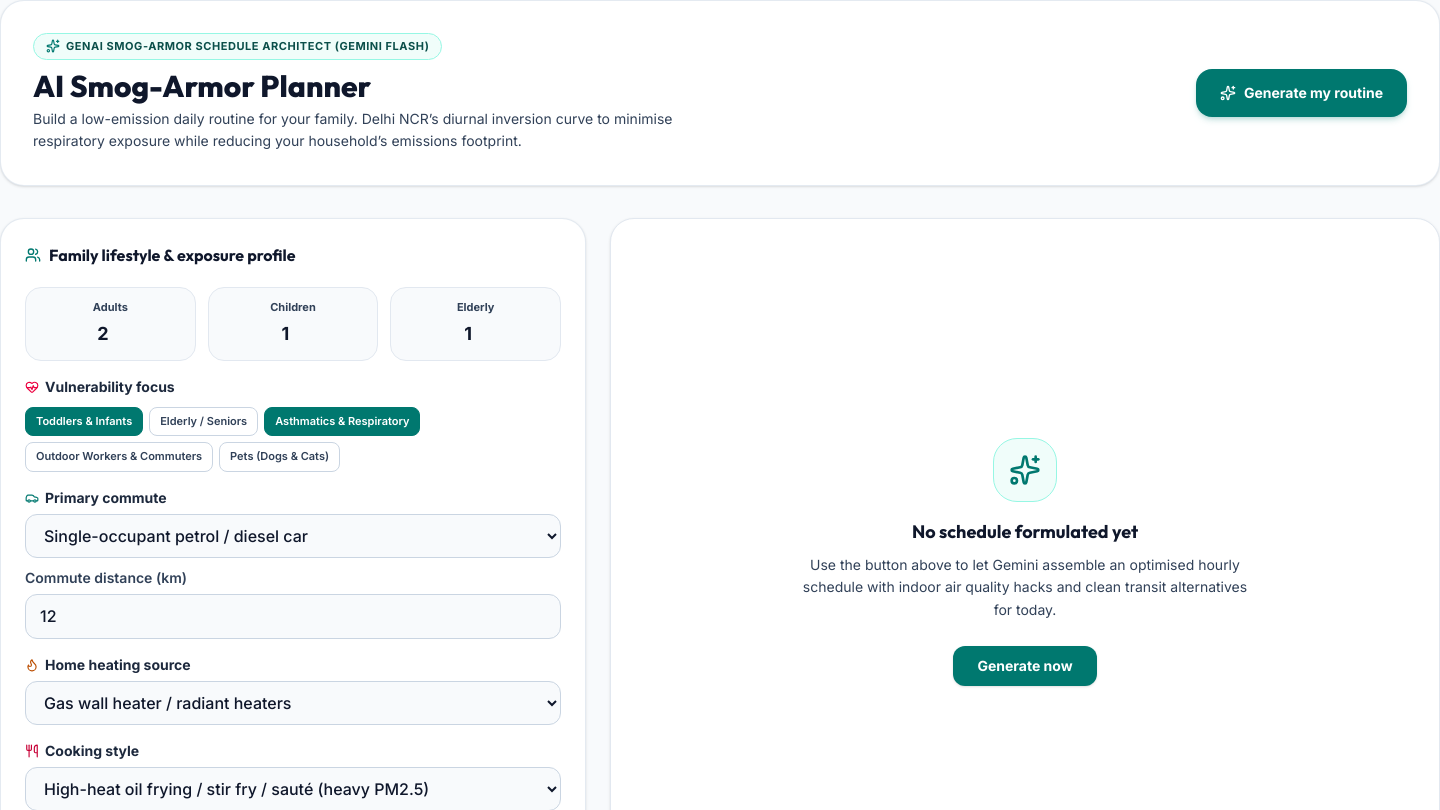
Scenario: GenAISmogPlanner › toggles a time block between done and not done
The width and height of the screenshot is (1440, 810).
Step 1. Click the button "Generate my routine" → click(1301, 93), box [1196,69,1407,117]
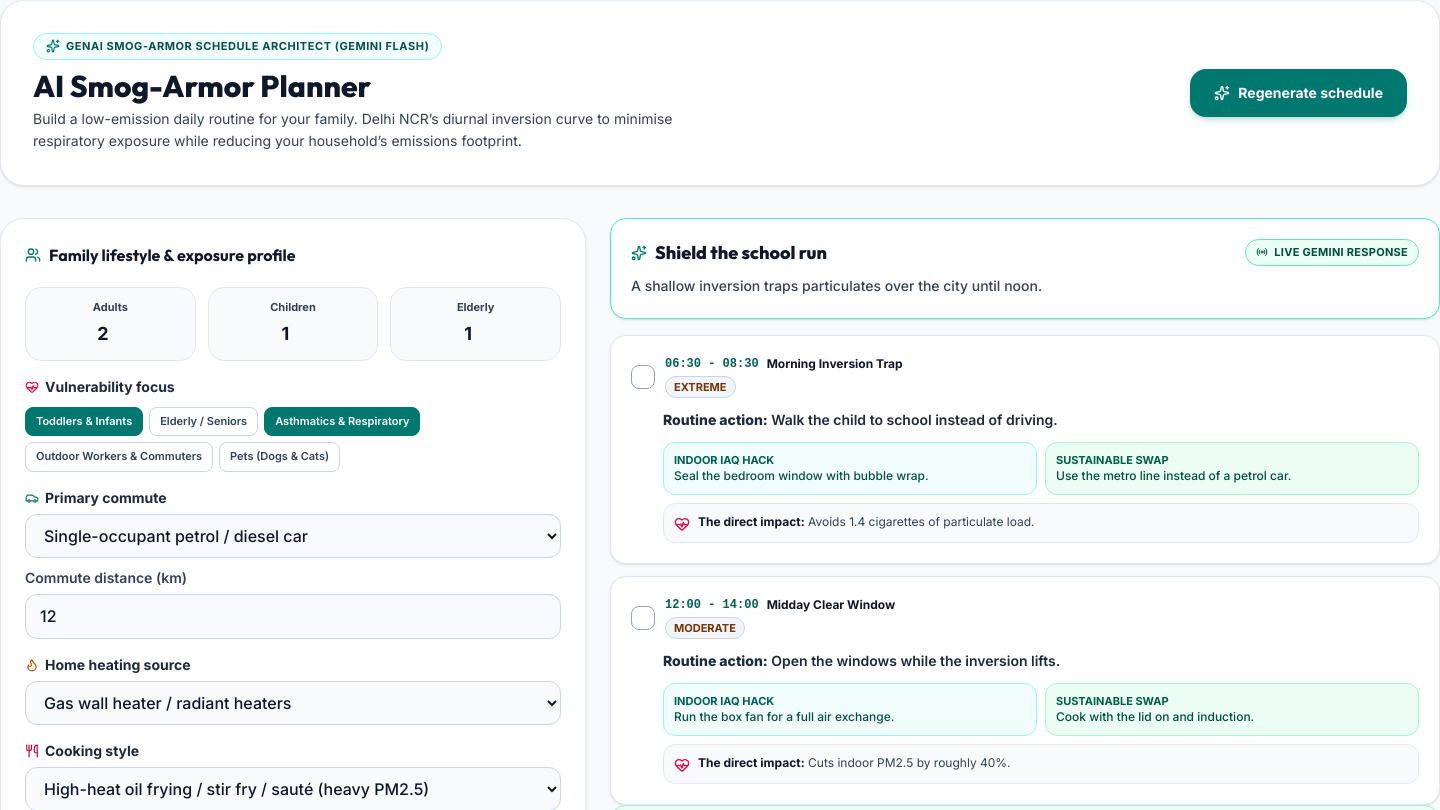
Now the heading "Shield the school run" is shown, box [631,239,827,267]
Step 2. Click the button named "mark block complete" → click(643, 377), box [631,365,655,389]
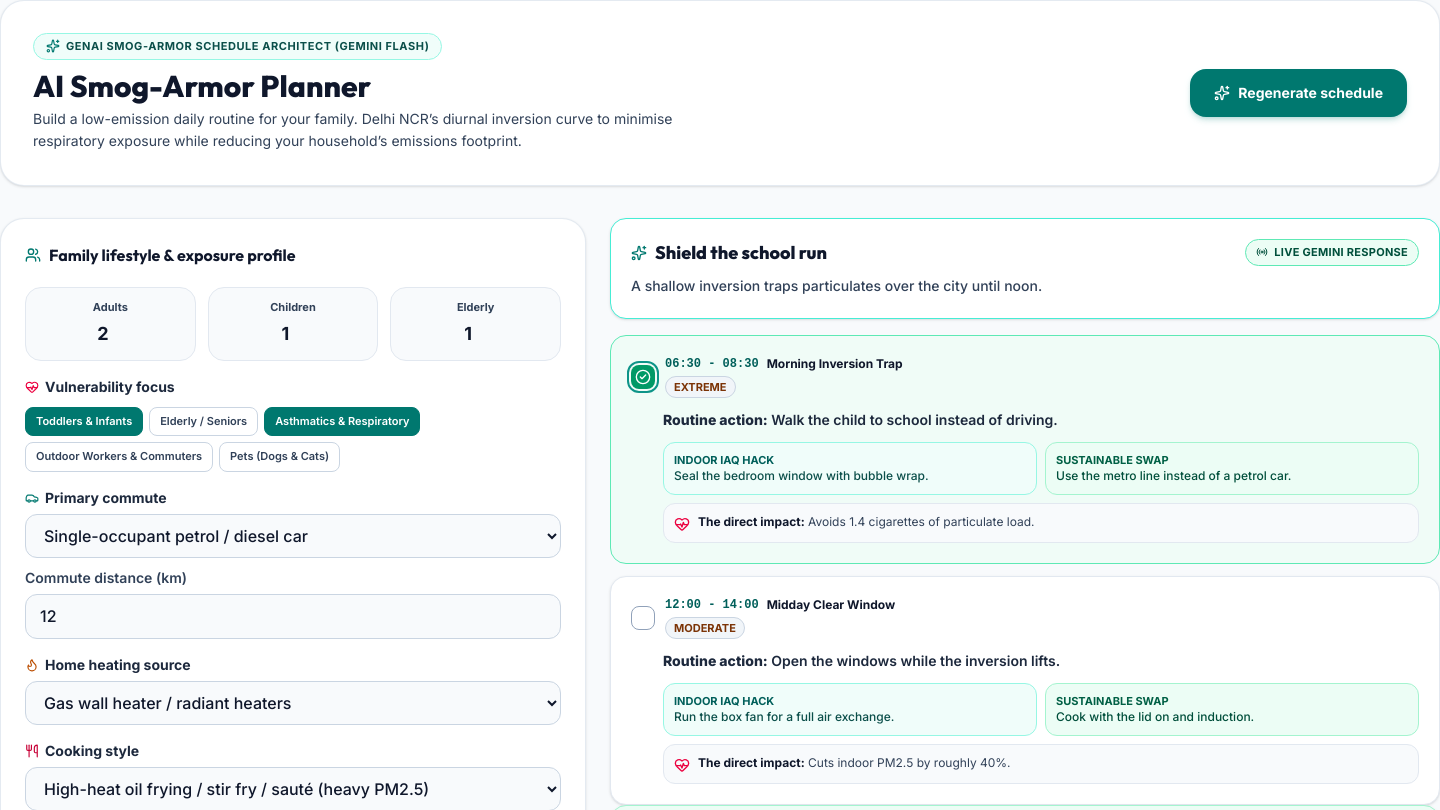
Now the button named "mark block as not done" is pressed, box [631,365,655,389]
